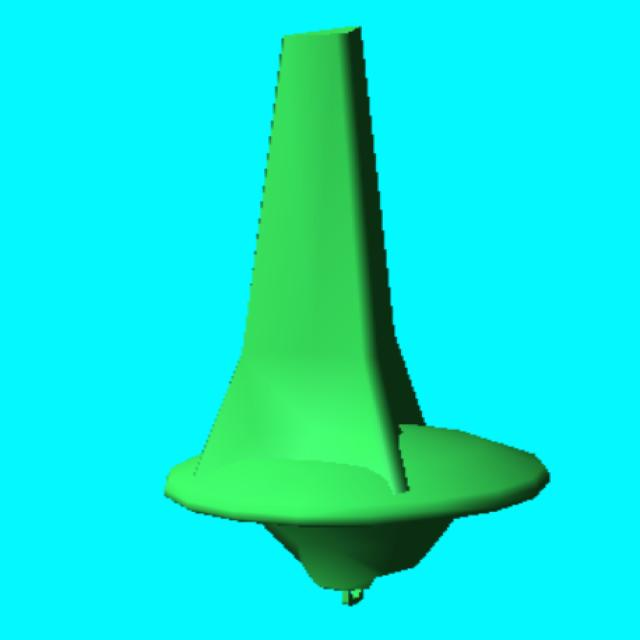GreenBuoy: (162, 22, 553, 608)
